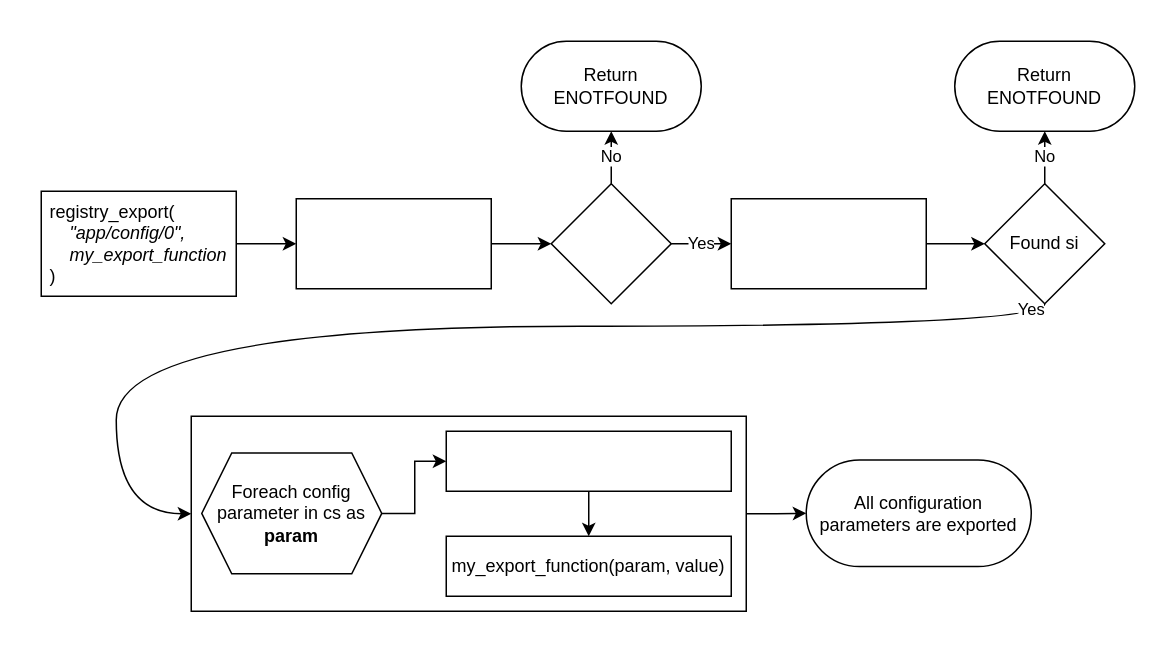
Image size: 1176x651. Some labels were removed from this diagram. Each missing label, with the centre of its shape:
Found cs: pixel 610 243
Search for "0" schema instance: pixel 828 243
Search for "config" configuration schema in "app" root group: pixel 393 243
value = cs->get( param.id ): pixel 588 460
